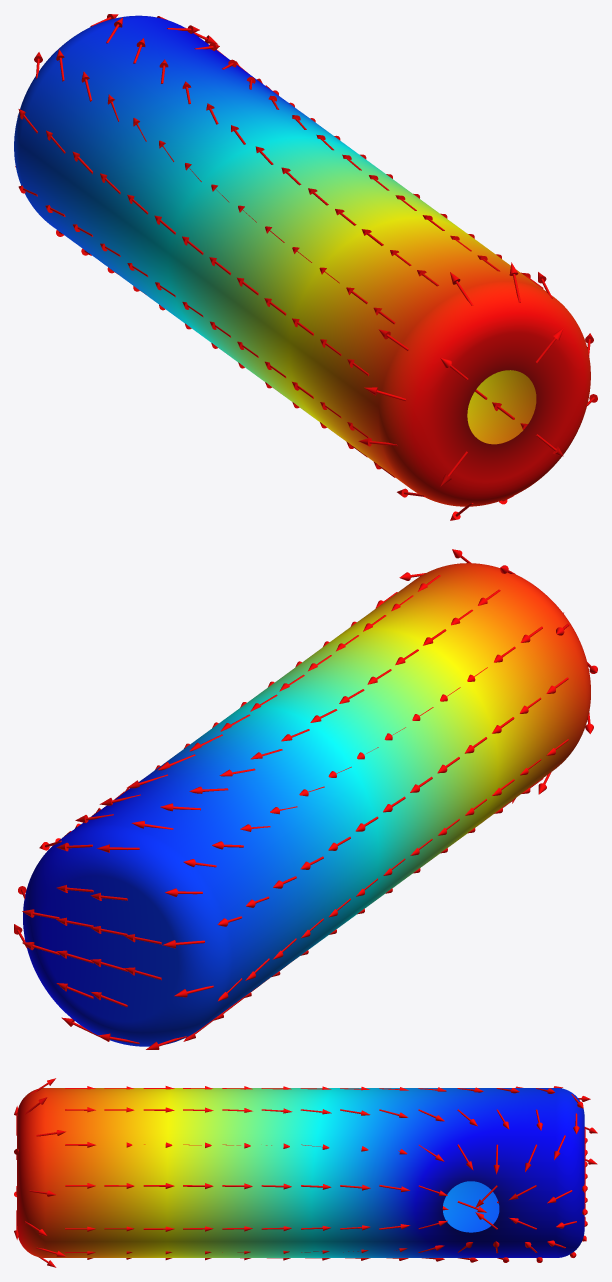
Rendered from submarine.glb.
3 renders of one model, top to bottom at view 1: azimuth 30°, elevation 25°; view 2: azimuth 150°, elevation 25°; view 3: azimuth 270°, elevation 25°, orthographic. The views are drawn at different scales.
Size of the model in its own units: 0.3397 by 0.3371 by 1.03.
Materials: 2 (2 with a texture image).
